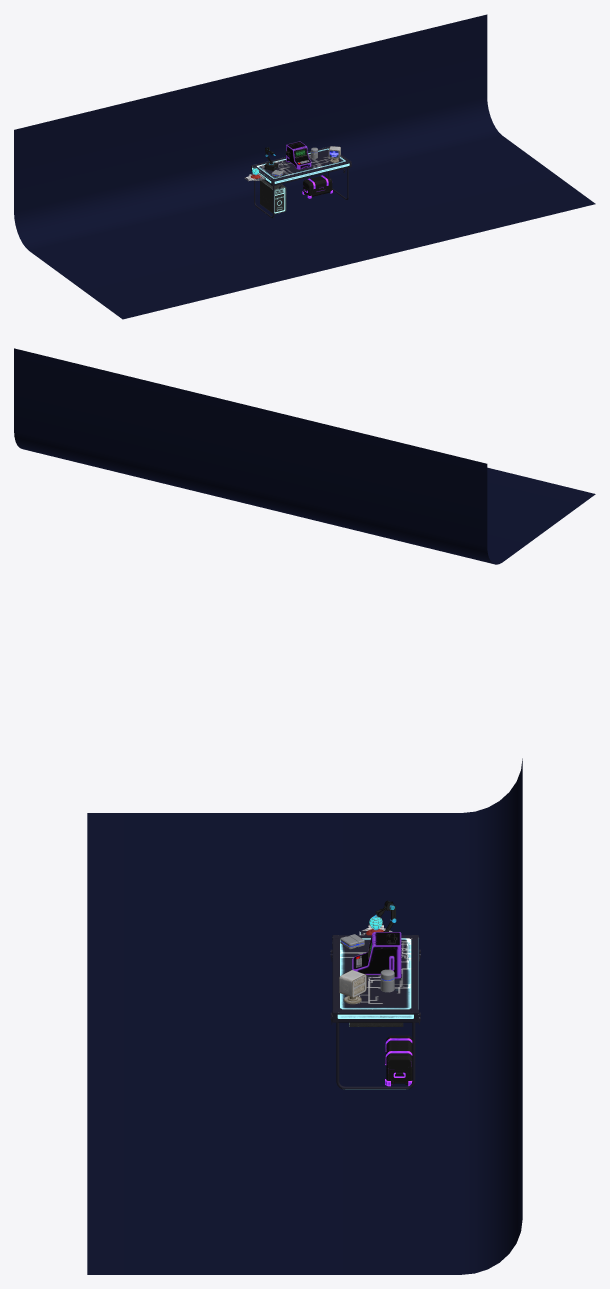
Rendered from desk__design___sci-fi_workstation__neon_termi.glb.
The picture shows the model from 3 angles, top to bottom: view 1: azimuth 30°, elevation 25°; view 2: azimuth 150°, elevation 25°; view 3: azimuth 270°, elevation 25°; orthographic projection. The views are drawn at different scales.
Parts seen in each view (by area): view 1: Plane.001, model_6, Cube.002, Slice; view 2: Plane.001; view 3: Plane.001, model_6, Slice, Slice.014.
Boxes of the visible parts, x1,y1,x2,y2 form: Plane.001: [14, 14, 595, 319]; model_6: [244, 146, 351, 218]; Cube.002: [260, 180, 286, 214]; Slice: [286, 141, 311, 169]; Plane.001: [14, 348, 595, 564]; Plane.001: [87, 758, 522, 1274]; model_6: [330, 924, 420, 1089]; Slice: [352, 932, 401, 978]; Slice.014: [385, 1035, 412, 1068].
Size of the model in its own units: 66.44 by 14.75 by 26.46.
Materials: 12 (12 with a texture image).
